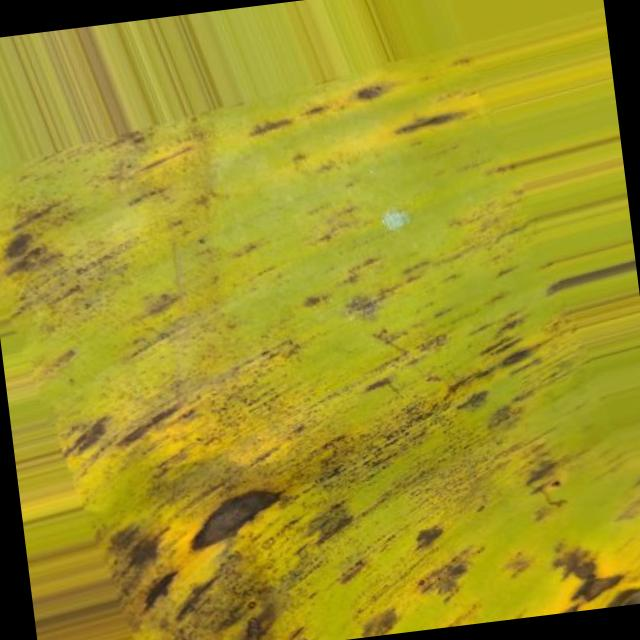Banana_Black_Sigatoka: (117, 384, 640, 640), (286, 69, 564, 398), (2, 129, 273, 392)
